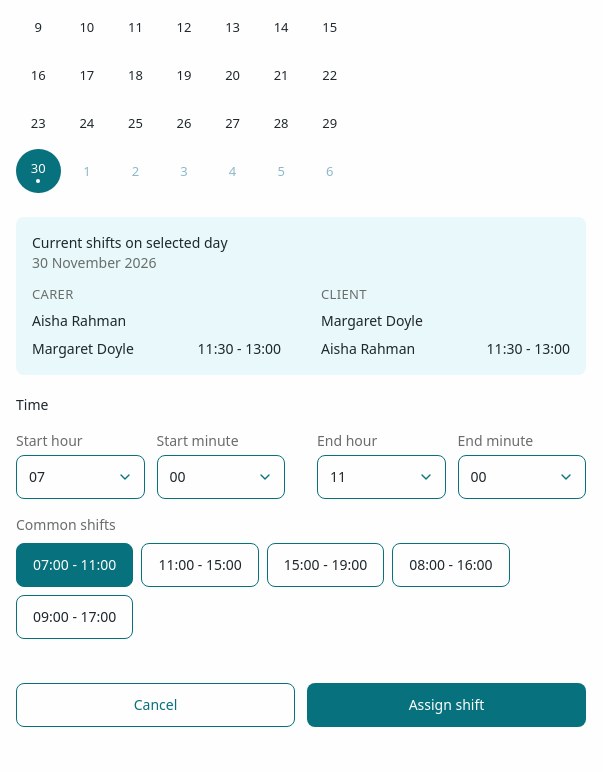
Test: Admin Manage › [ADM-UI-02][AC-03] resets local assignments on remount
(page scrolled)
Click the button "Assign shift". click: [446, 705]
box: [307,683,586,727]
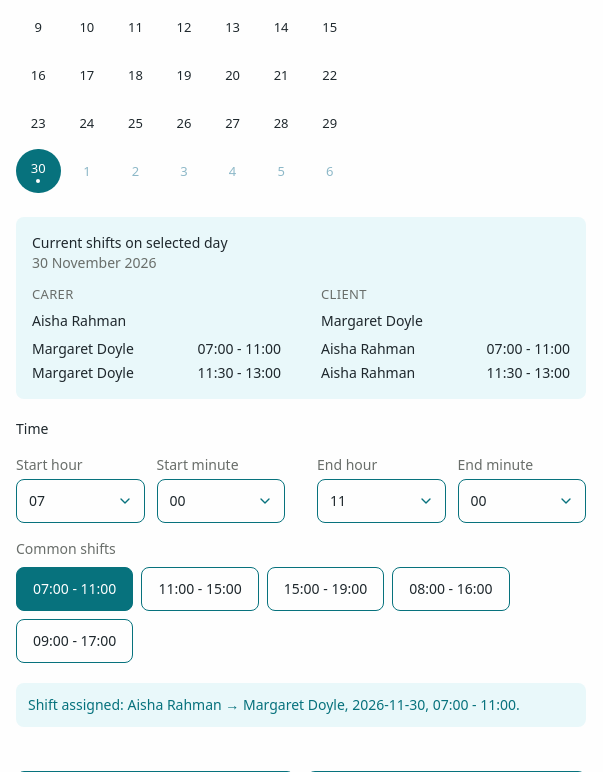
Expected: the message shows "Shift assigned", [28,695,520,714]
